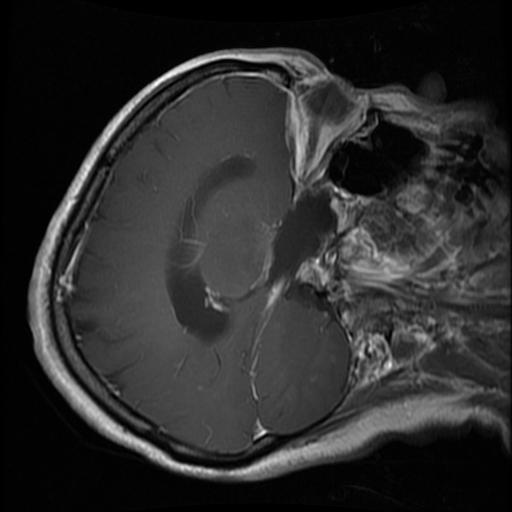glioma: (266, 193, 333, 293)
